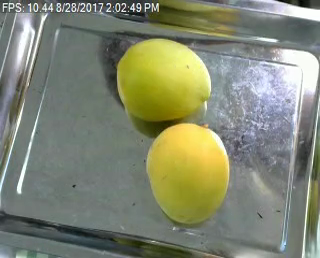Mango: (146, 125, 229, 223), (116, 37, 210, 122)
